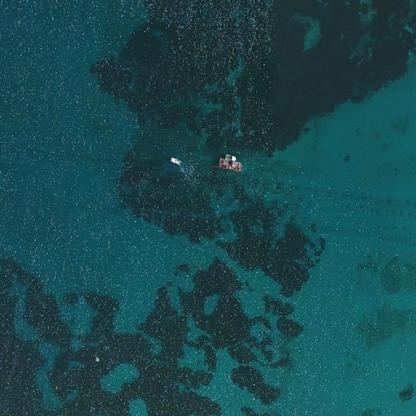ship: (214, 151, 245, 175), (166, 153, 185, 169)
